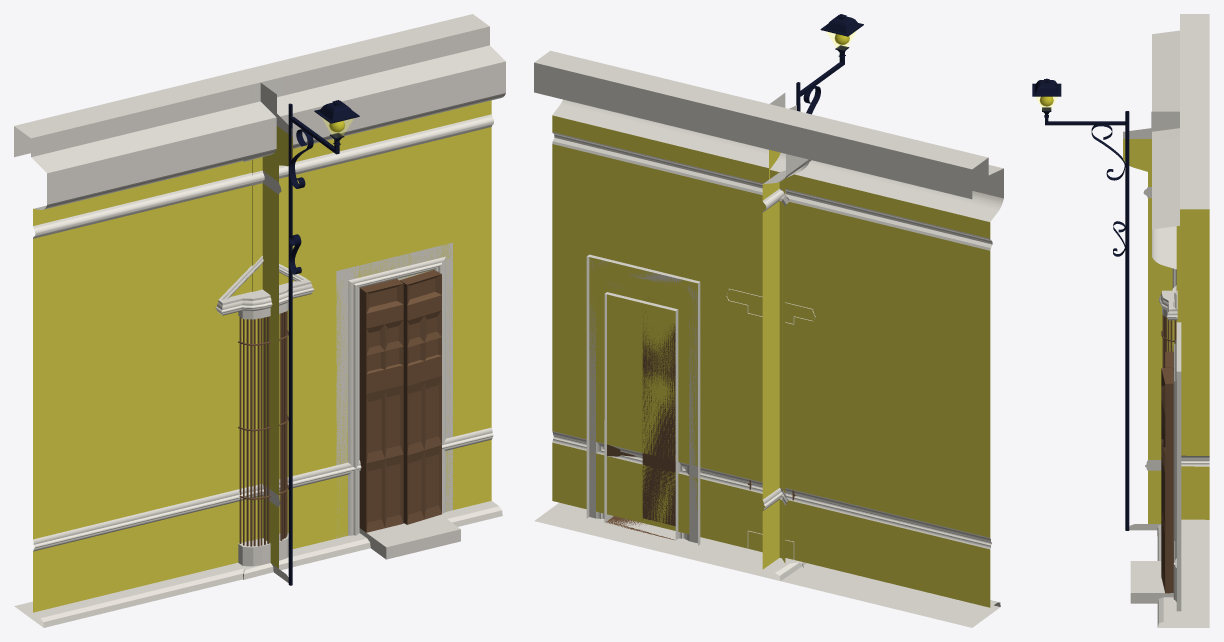
The model's file is walls_1.fbx.
The picture shows the model from 3 angles, left to right: view 1: azimuth 30°, elevation 25°; view 2: azimuth 150°, elevation 25°; view 3: azimuth 270°, elevation 25°; orthographic projection. The views are drawn at different scales.
Parts seen in each view (by area): view 1: Wall2x2x0.25, Door, Window, WallProfile, Corner90, Pole; view 2: Wall2x2x0.25, Door, Corner90, Corner45, Pole; view 3: Wall2x2x0.25, Corner90, WallProfile, Door, Pole, Window.
Boxes of the visible parts, box(x1,y1,x2,y2) form: Wall2x2x0.25: box(14, 14, 505, 627); Door: box(336, 242, 460, 559); Window: box(215, 255, 314, 566); WallProfile: box(260, 83, 292, 582); Corner90: box(238, 64, 299, 579); Pole: box(288, 100, 359, 585); Wall2x2x0.25: box(534, 50, 1003, 627); Door: box(586, 254, 700, 545); Corner90: box(732, 99, 811, 580); Corner45: box(765, 108, 809, 567); Pole: box(796, 14, 863, 114); Wall2x2x0.25: box(1152, 14, 1209, 627); Corner90: box(1152, 108, 1209, 539); WallProfile: box(1123, 111, 1180, 530); Door: box(1130, 322, 1181, 611); Pole: box(1032, 78, 1129, 530); Window: box(1159, 290, 1177, 367).
Size of the model in its own units: 200 by 216 by 76.84.
